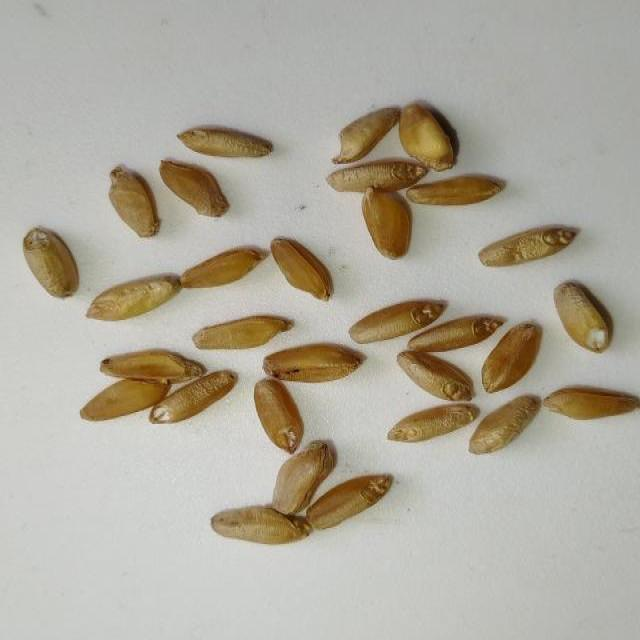wheat_grain: (304, 473, 393, 530), (150, 369, 236, 424), (272, 440, 333, 514), (85, 274, 180, 320), (158, 158, 229, 218), (481, 321, 540, 393), (469, 395, 542, 453), (348, 299, 444, 343), (554, 281, 612, 353), (78, 375, 169, 420), (397, 350, 475, 402), (22, 227, 78, 299), (270, 236, 332, 301), (477, 225, 574, 266), (263, 343, 363, 382), (211, 505, 312, 543), (398, 102, 455, 169), (385, 402, 478, 443), (253, 377, 303, 453), (107, 166, 159, 239), (332, 107, 401, 162), (406, 315, 503, 353), (98, 349, 206, 383), (179, 246, 266, 288), (361, 185, 410, 259), (193, 314, 289, 349), (326, 159, 427, 192), (542, 386, 639, 419), (178, 126, 273, 158), (406, 175, 504, 206)
